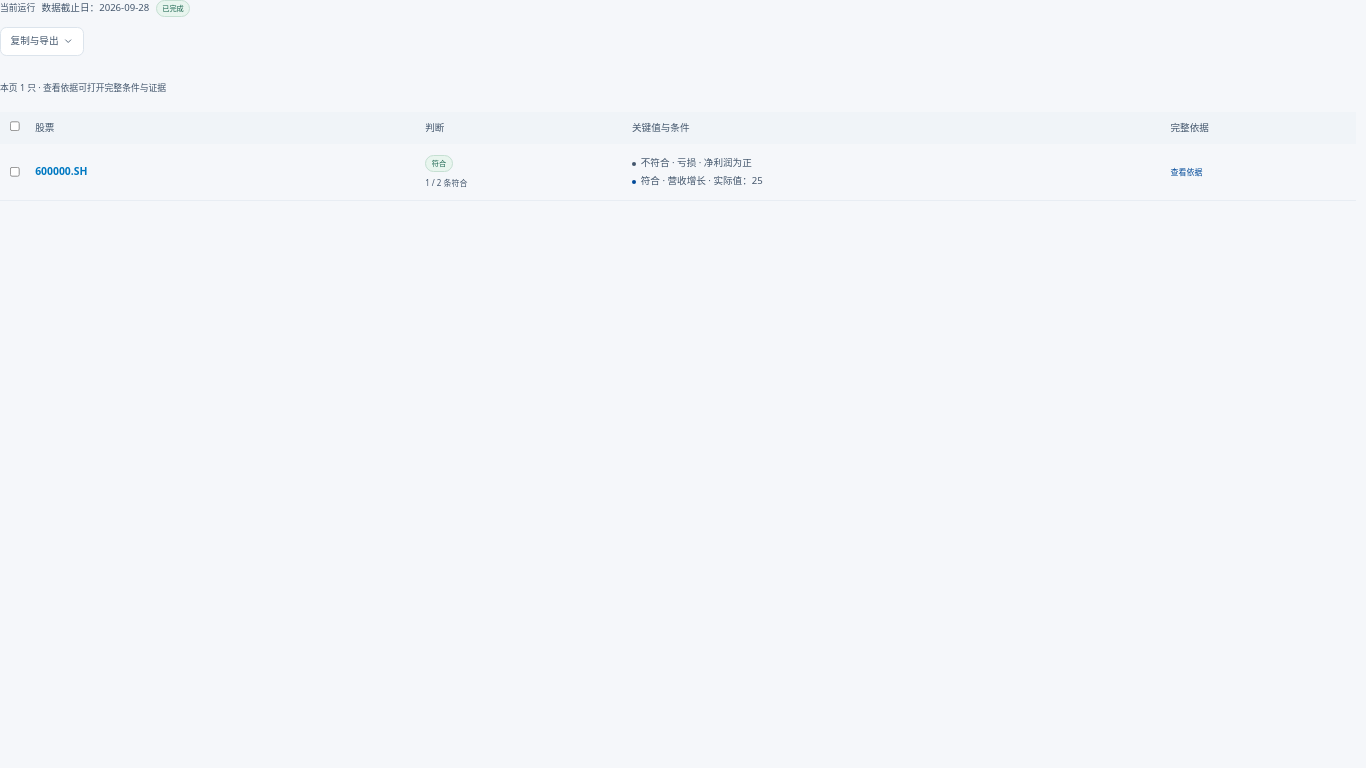
opens full evidence from the compact list, including a false condition on a matching stock
Expected: the table named "筛选结果股票列表" is shown, [0,112,1356,201]
Expected: the text "不符合 · 亏损 · 净利润为正" is shown, [632,156,752,169]
Click the button with aria-label "查看 600000.SH 条件与依据".
click(1186, 172)  # box [1170,165,1202,178]
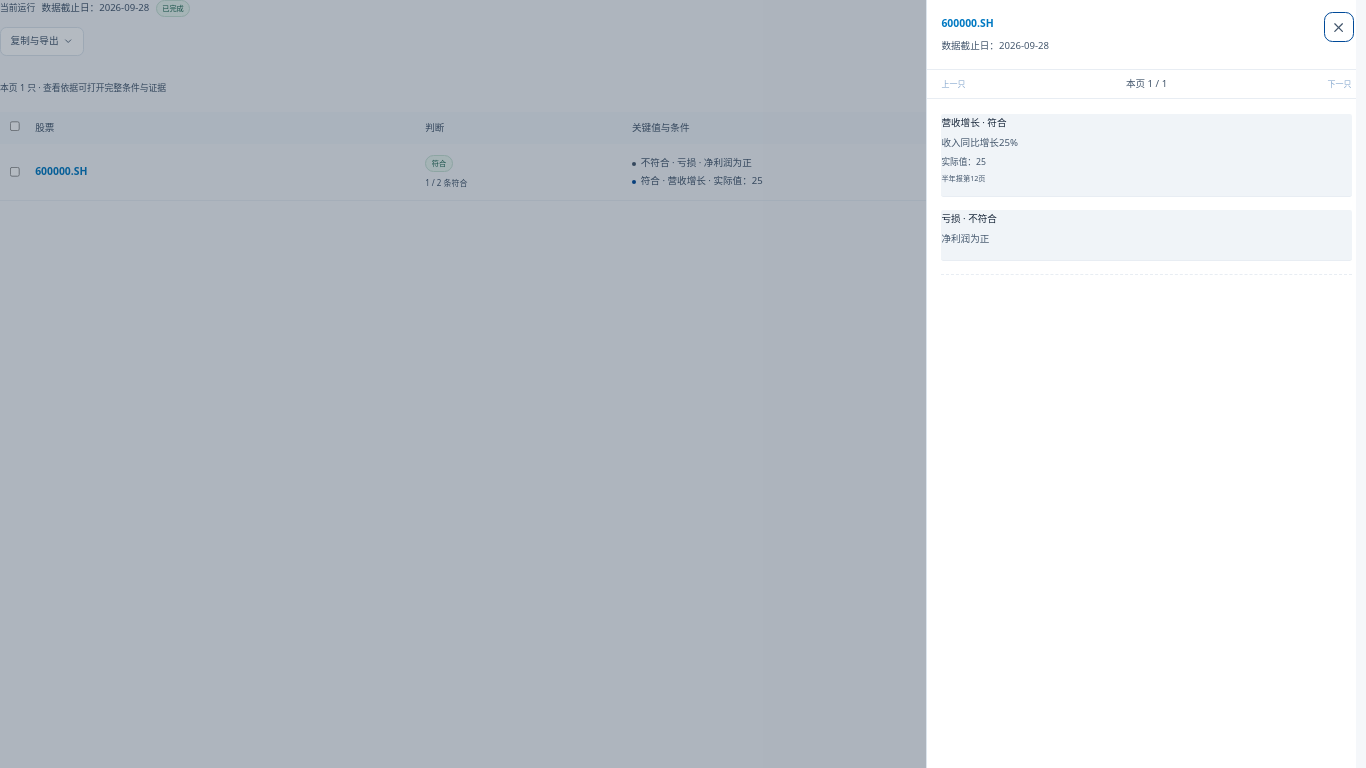
Result: the text "半年报第12页" is shown at [941,173,986,183]
Result: the text "亏损 · 不符合" is shown at [941,212,997,225]
Press Escape
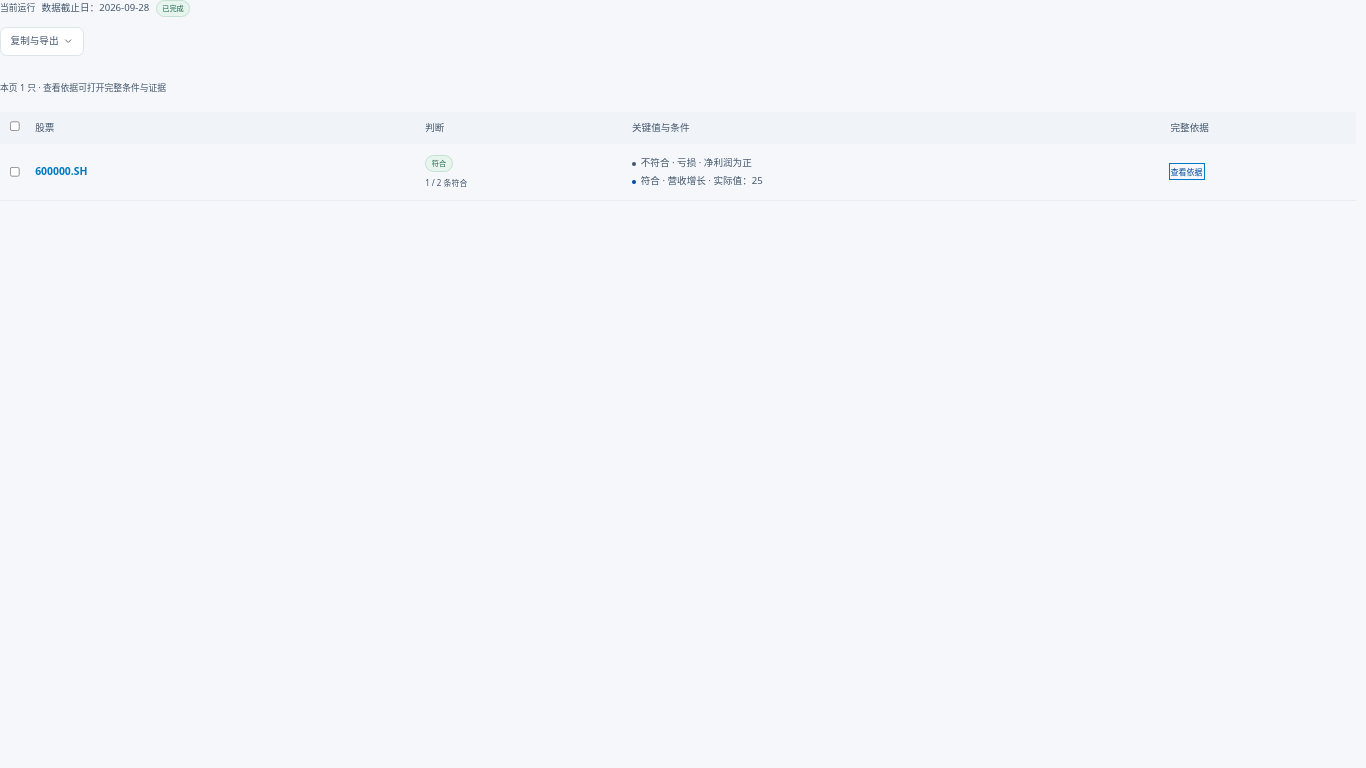
Result: the dialog is gone
